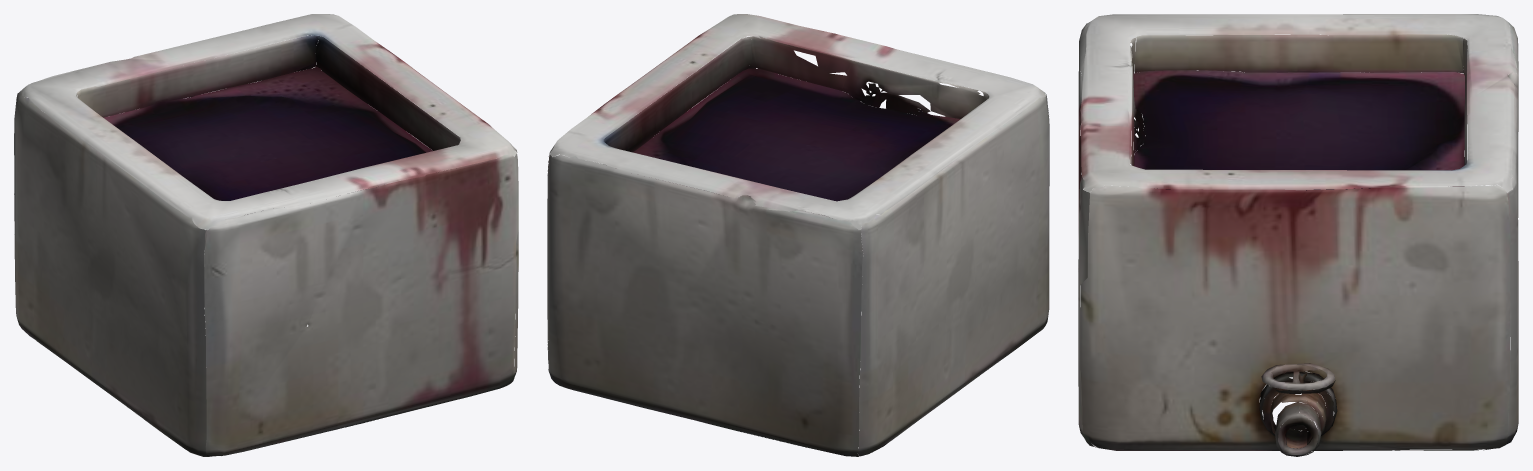
The model's file is pileta.glb.
The picture shows the model from 3 angles, left to right: view 1: azimuth 30°, elevation 25°; view 2: azimuth 150°, elevation 25°; view 3: azimuth 270°, elevation 25°; orthographic projection. The views are drawn at different scales.
Visible parts, largest first — view 1: pileta; view 2: pileta; view 3: pileta.
Part boxes in pixels (<box>): pileta: <box>14,14,518,456</box>; pileta: <box>547,14,1049,456</box>; pileta: <box>1078,14,1518,456</box>.
Bounding box in the file's own units: 1.71 × 0.9984 × 1.49.
Materials: 1 (1 with a texture image).
